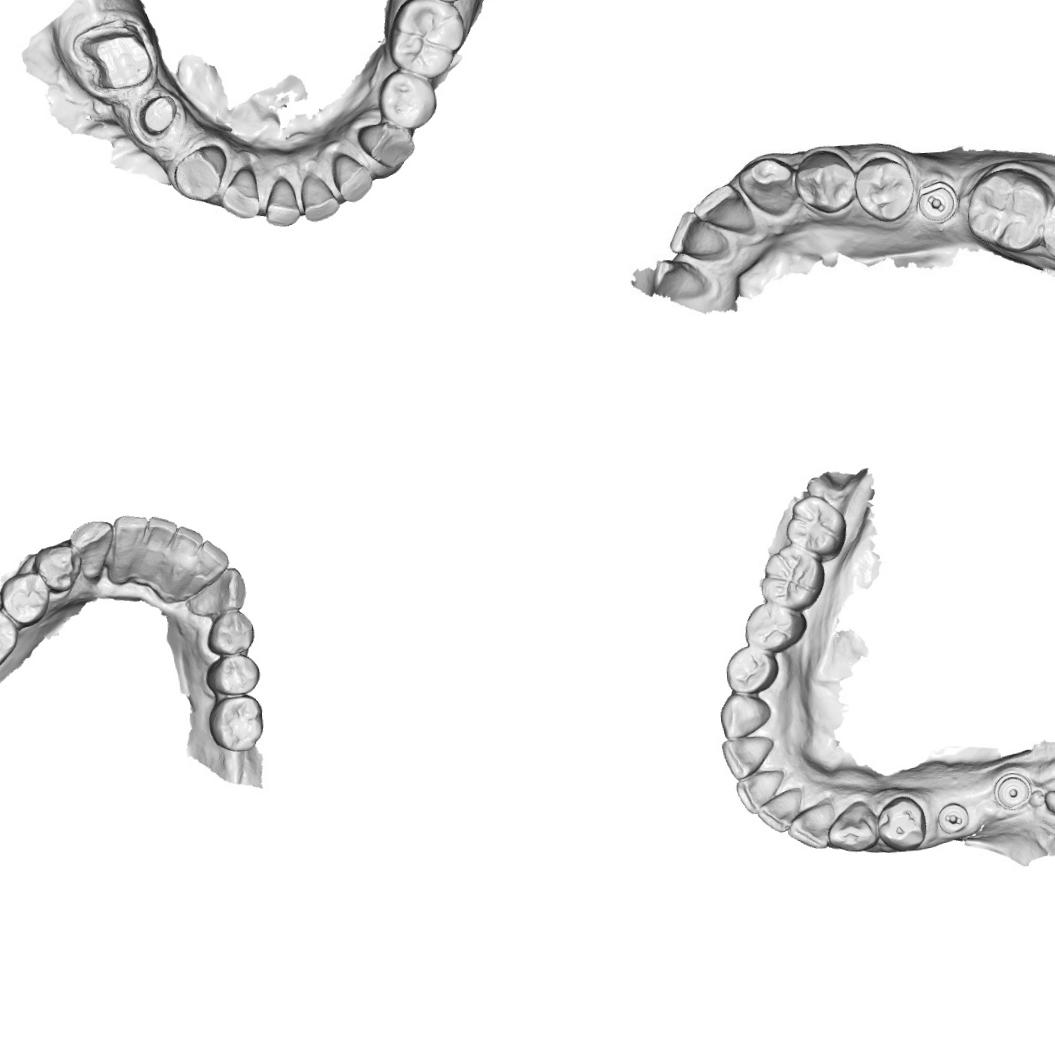canine: (739, 153, 800, 224), (169, 141, 229, 204), (354, 117, 418, 173), (183, 564, 249, 618), (824, 798, 881, 854), (67, 517, 115, 582), (718, 690, 774, 740)
crown: (72, 16, 160, 99), (134, 92, 184, 136)
implant: (990, 769, 1033, 814)
implant_minus: (916, 172, 964, 230), (935, 800, 970, 835)
incisor: (665, 207, 736, 269), (698, 182, 756, 238), (214, 162, 262, 221), (720, 734, 778, 781), (328, 148, 376, 204), (784, 800, 836, 851), (734, 767, 786, 816), (298, 168, 342, 224), (260, 173, 304, 229), (754, 786, 804, 834), (110, 512, 151, 568), (192, 536, 234, 582), (142, 513, 179, 561), (170, 522, 206, 566)
molar: (381, 0, 470, 81), (965, 162, 1044, 248), (756, 542, 828, 612), (782, 492, 848, 564), (204, 693, 267, 754), (0, 600, 22, 675)
premolar: (793, 144, 860, 214), (373, 64, 438, 132), (856, 150, 918, 221), (741, 599, 809, 653), (874, 793, 928, 854), (721, 643, 781, 696), (0, 569, 51, 627), (202, 650, 263, 696), (31, 542, 84, 594), (202, 610, 256, 656)
